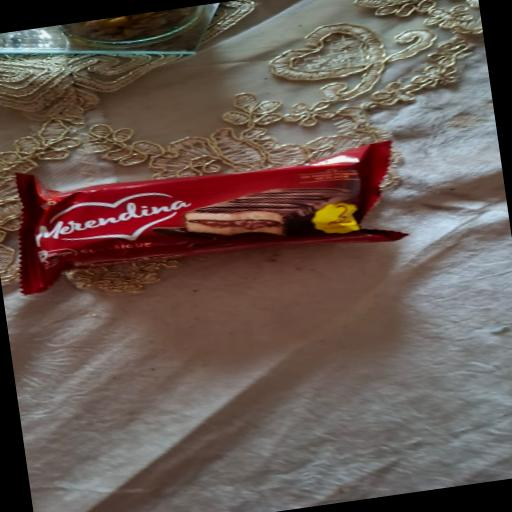merendina: (0, 105, 454, 332)
